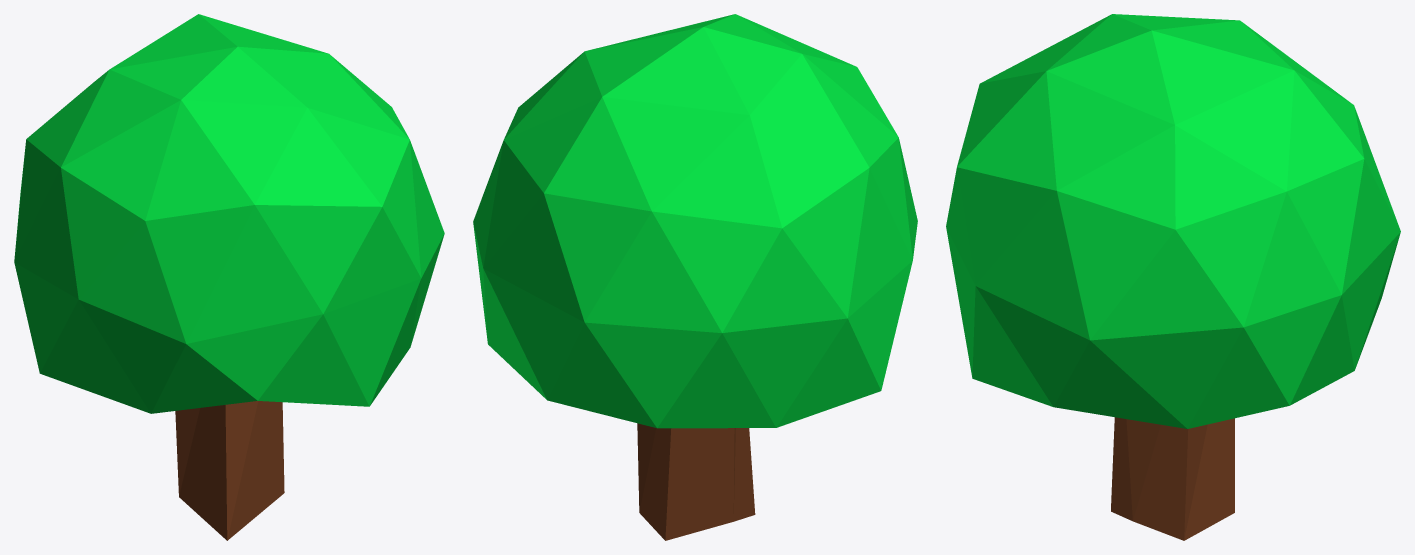
File: Bush1.fbx
3 renders of one model, left to right at view 1: azimuth 30°, elevation 25°; view 2: azimuth 150°, elevation 25°; view 3: azimuth 270°, elevation 25°, orthographic. The views are drawn at different scales.
Parts seen in each view (by area): view 1: Cube; view 2: Cube; view 3: Cube.
Boxes of the visible parts, box(x1,y1,x2,y2) form: Cube: box(14, 14, 444, 540); Cube: box(473, 14, 917, 540); Cube: box(946, 14, 1400, 540).
Bounding box in the file's own units: 190 × 238 × 197.
